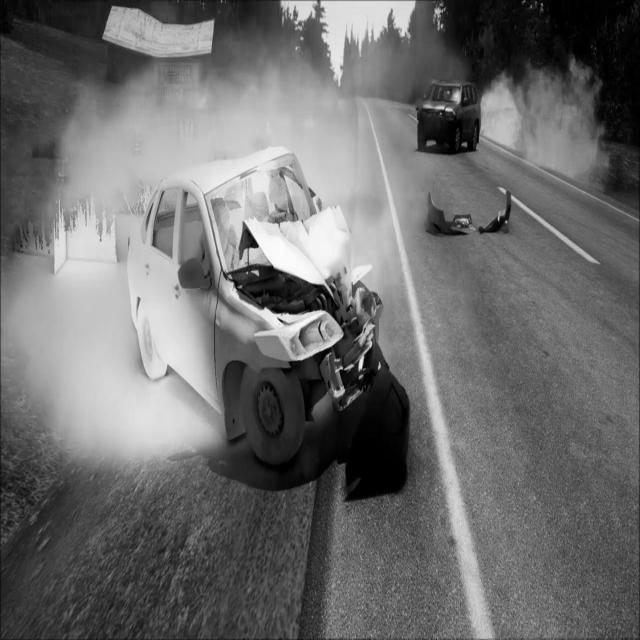severe: (120, 137, 390, 487)
